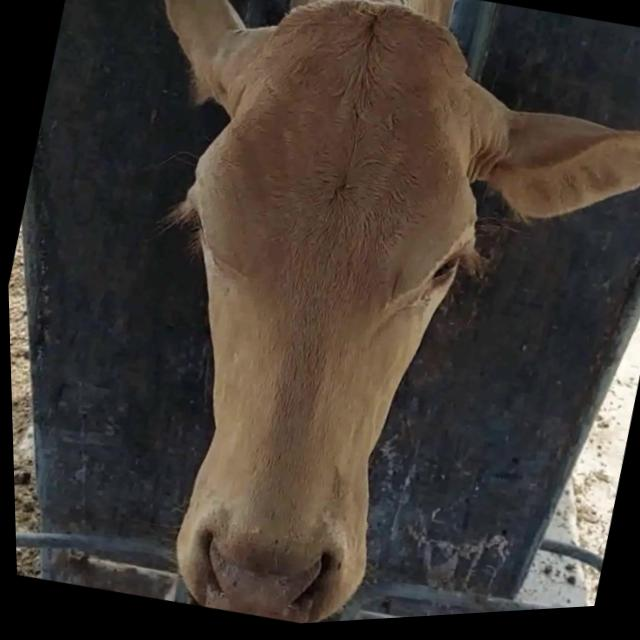cowFace: (97, 0, 528, 635)
